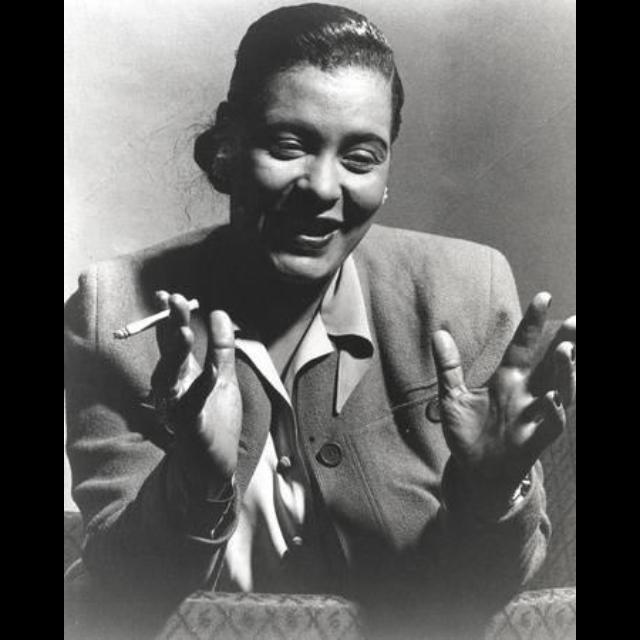rokok: (109, 296, 205, 342)
